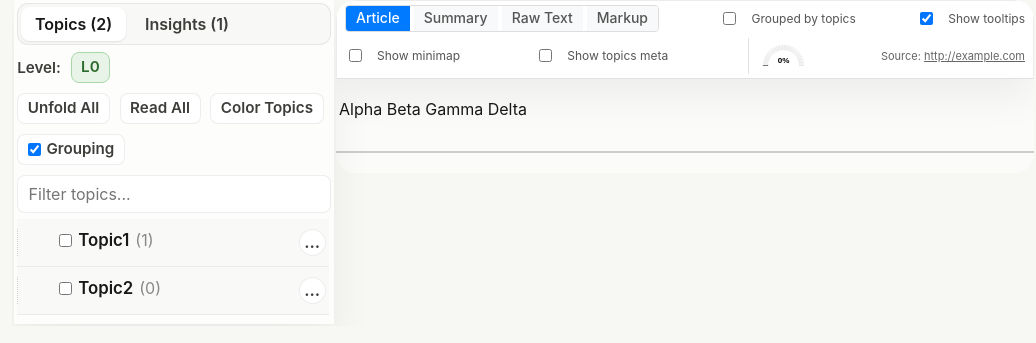
Test: TextPage raw text navigation › colors only insight-linked topics from the sidebar insights pane
Expected: the text "Source:" is shown, left=881, top=49, right=921, bottom=63
Click the tab "Insights (1)": (187, 24) left=131, top=7, right=243, bottom=41
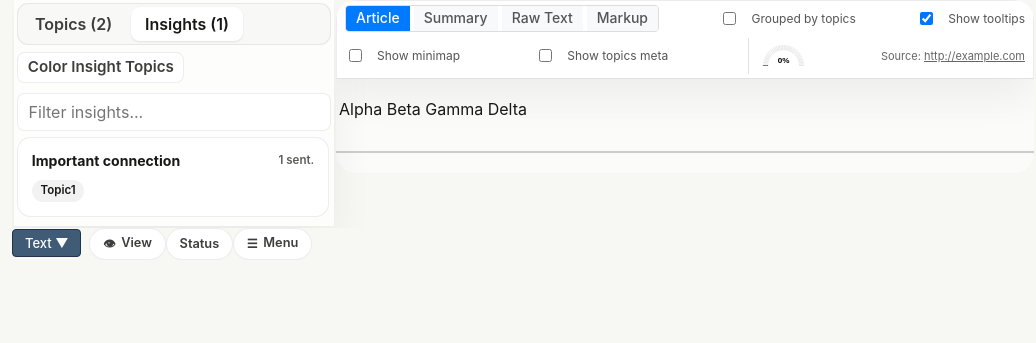
Click the button "Color Insight Topics": (101, 67) left=17, top=52, right=184, bottom=83
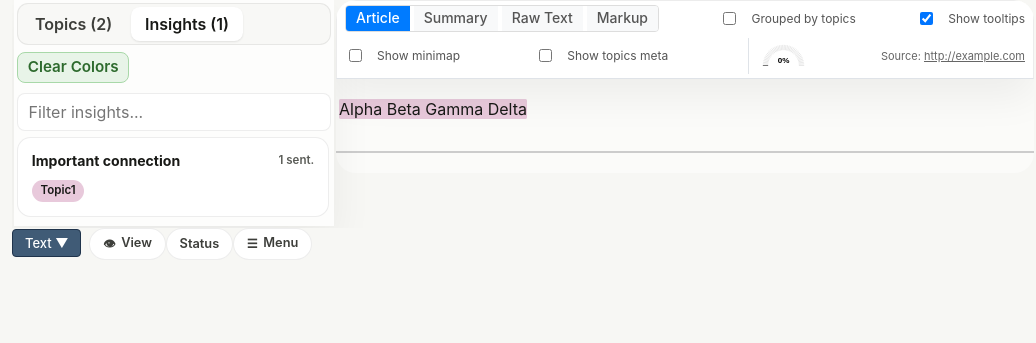
Click the button "Raw Text": (542, 18) left=502, top=6, right=583, bottom=31
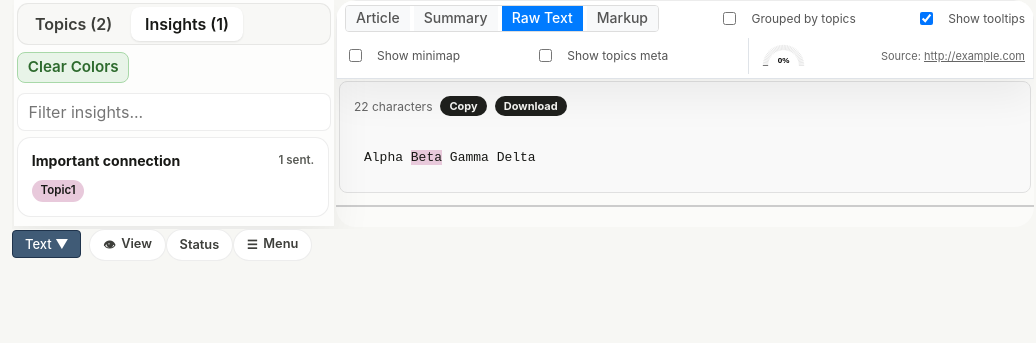
Expected: the text with class "raw-text-token" reads "Beta", left=411, top=150, right=442, bottom=165
Expected: the number of elements with class "raw-text-token" is 1, left=411, top=150, right=442, bottom=165
